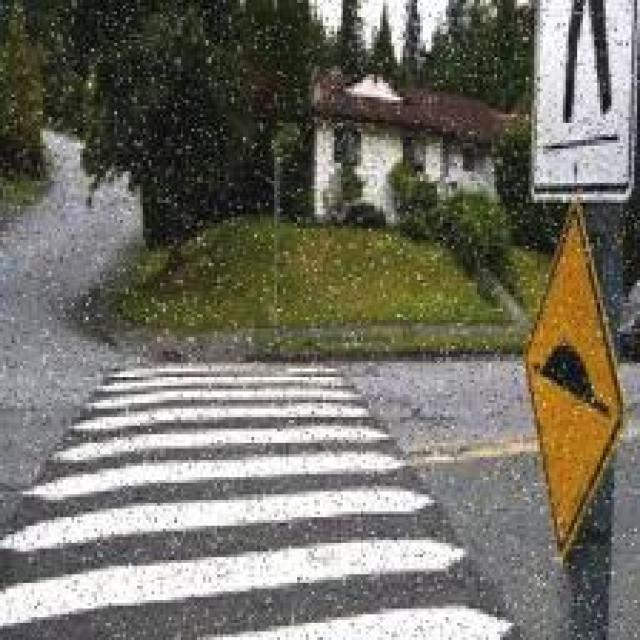crosswalk: (1, 355, 526, 635)
